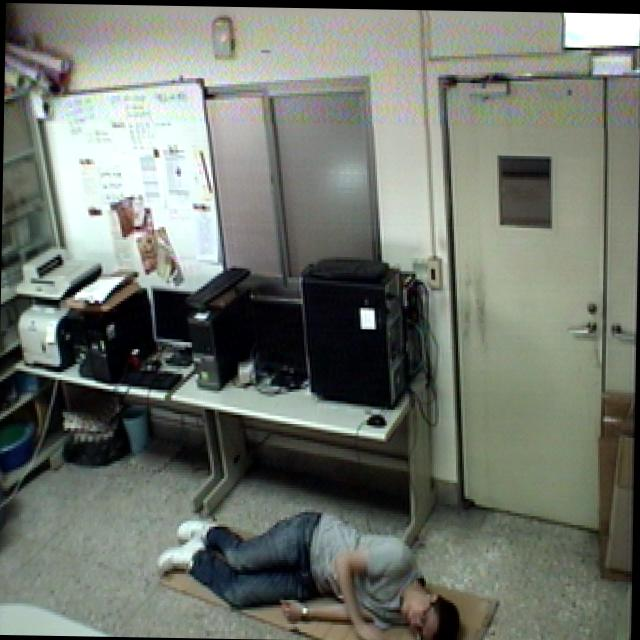lie: (148, 493, 471, 640)
